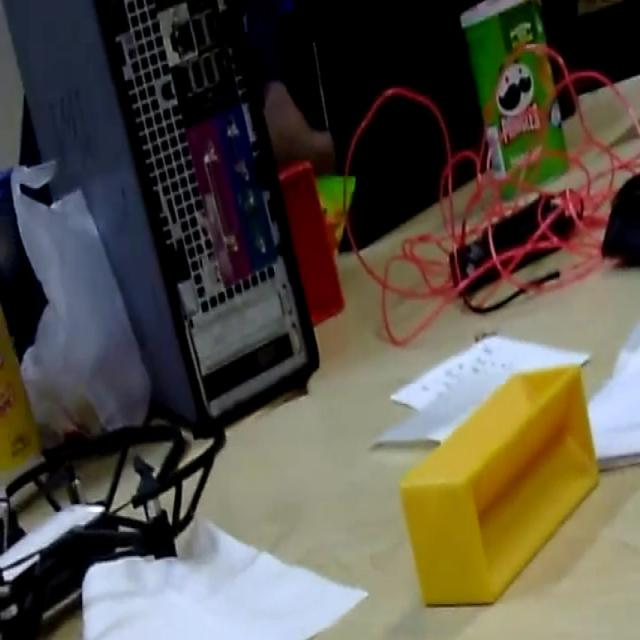red_block: (276, 156, 345, 327)
yellow_block: (398, 360, 600, 607)
